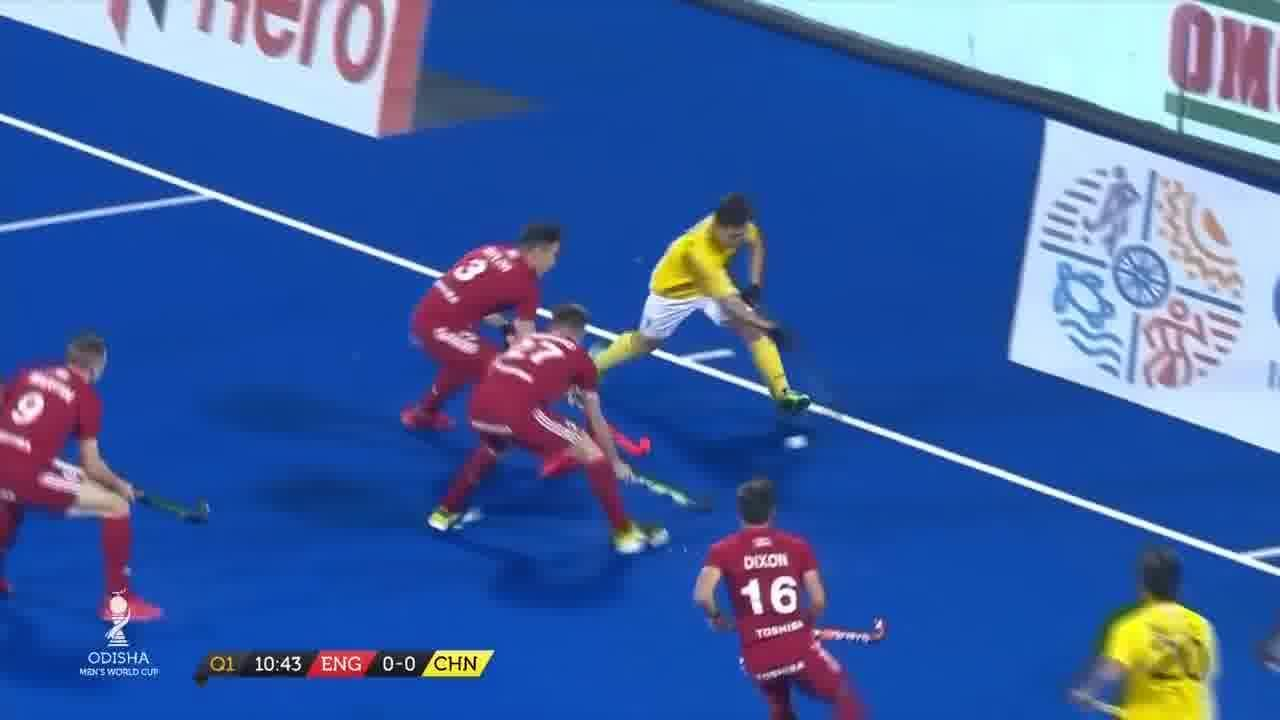ball: (774, 426, 816, 458)
